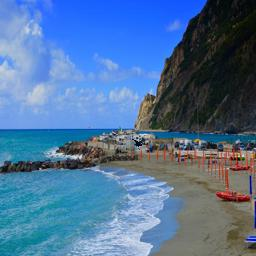Crow: (129, 137, 144, 150)
